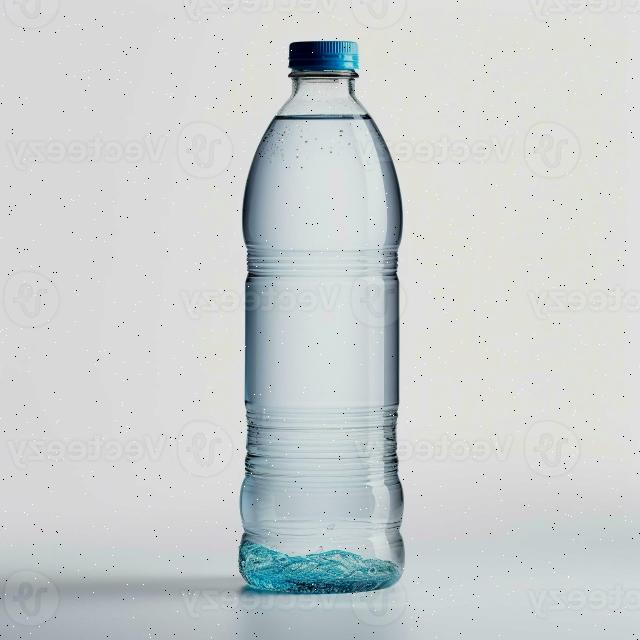bottle: (228, 28, 420, 600)
cap: (280, 28, 370, 86)
